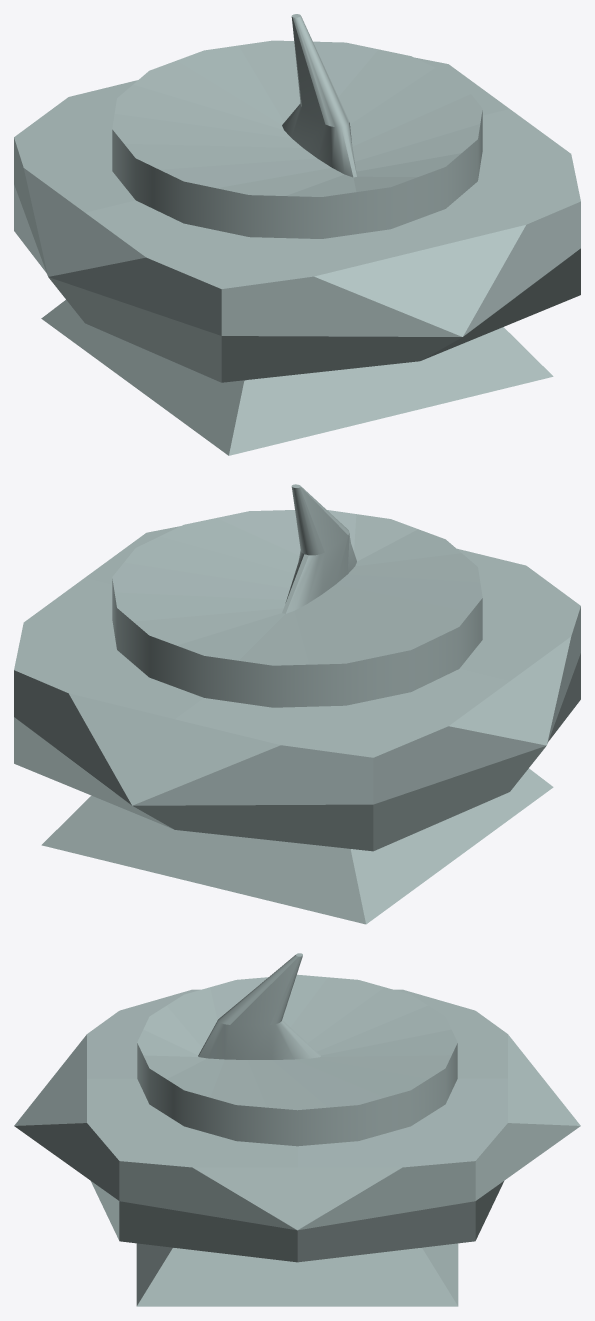
Rendered from Sun Dial Good.fbx.
3 renders of one model, top to bottom at view 1: azimuth 30°, elevation 25°; view 2: azimuth 150°, elevation 25°; view 3: azimuth 270°, elevation 25°, orthographic. The views are drawn at different scales.
Parts seen in each view (by area): view 1: pCube2; view 2: pCube2; view 3: pCube2.
Boxes of the visible parts, box(x1,y1,x2,y2) form: pCube2: box(14, 14, 580, 455); pCube2: box(14, 484, 580, 924); pCube2: box(14, 953, 580, 1306).
Bounding box in the file's own units: 69.36 × 43.98 × 79.62.
Materials: 1 (1 with a texture image).
